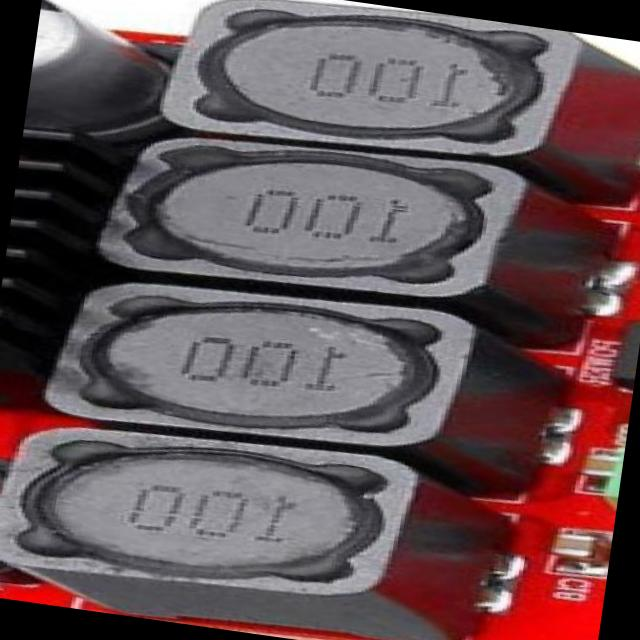capacitor: (526, 526, 604, 584), (574, 451, 616, 484)
